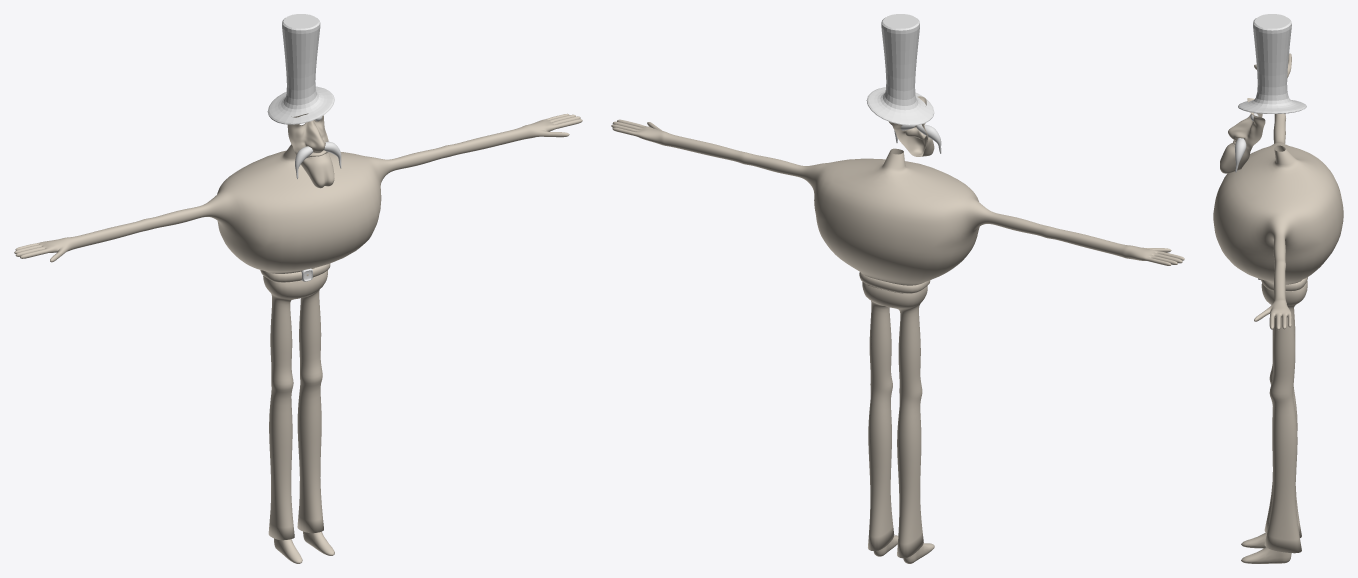
File: von.fbx
3 views of the same model, side by side, from view 1: azimuth 30°, elevation 25°; view 2: azimuth 150°, elevation 25°; view 3: azimuth 270°, elevation 25° (orthographic).
Parts seen in each view (by area): view 1: Cube.004, Cube.002, Circle, Plane; view 2: Cube.004, Cube.002, Circle, Plane; view 3: Cube.004, Cube.002, Circle, Plane, Circle.001.
Boxes of the visible parts, x1=… form: Cube.004: x1=14, y1=113, x2=582, y2=563; Cube.002: x1=260, y1=263, x2=330, y2=540; Circle: x1=267, y1=14, x2=334, y2=124; Plane: x1=287, y1=113, x2=334, y2=188; Cube.004: x1=611, y1=119, x2=1184, y2=563; Cube.002: x1=859, y1=272, x2=930, y2=558; Circle: x1=866, y1=14, x2=934, y2=125; Plane: x1=889, y1=96, x2=934, y2=156; Cube.004: x1=1213, y1=53, x2=1343, y2=563; Cube.002: x1=1260, y1=277, x2=1307, y2=553; Circle: x1=1238, y1=14, x2=1306, y2=113; Plane: x1=1220, y1=98, x2=1265, y2=173; Circle.001: x1=1235, y1=138, x2=1246, y2=172.
Bounding box in the file's own units: 1799 × 1611 × 356.
